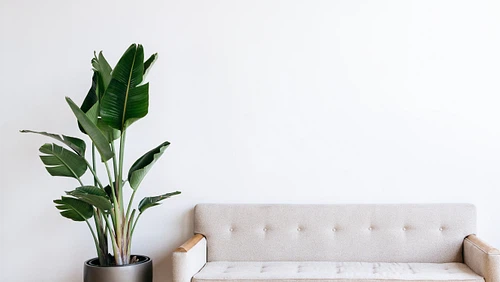large plant: (19, 40, 181, 282)
sofa: (171, 201, 500, 282)
